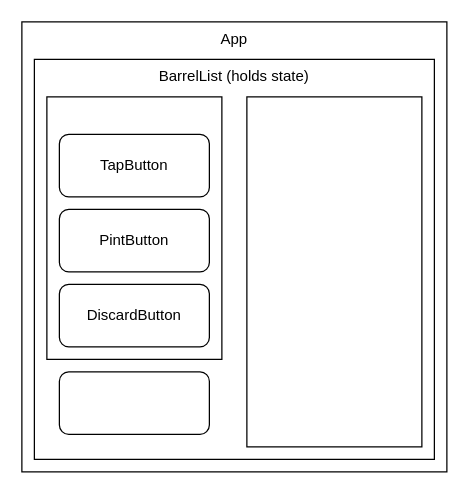
Some shapes in this 469 by 494 pixel diagram are drawn without their labels. Each missing label, with the box of its shape:
AddButton: (58, 371, 209, 434)
Barrel: (46, 96, 222, 359)
ReusableAddEditForm: (246, 96, 422, 447)
